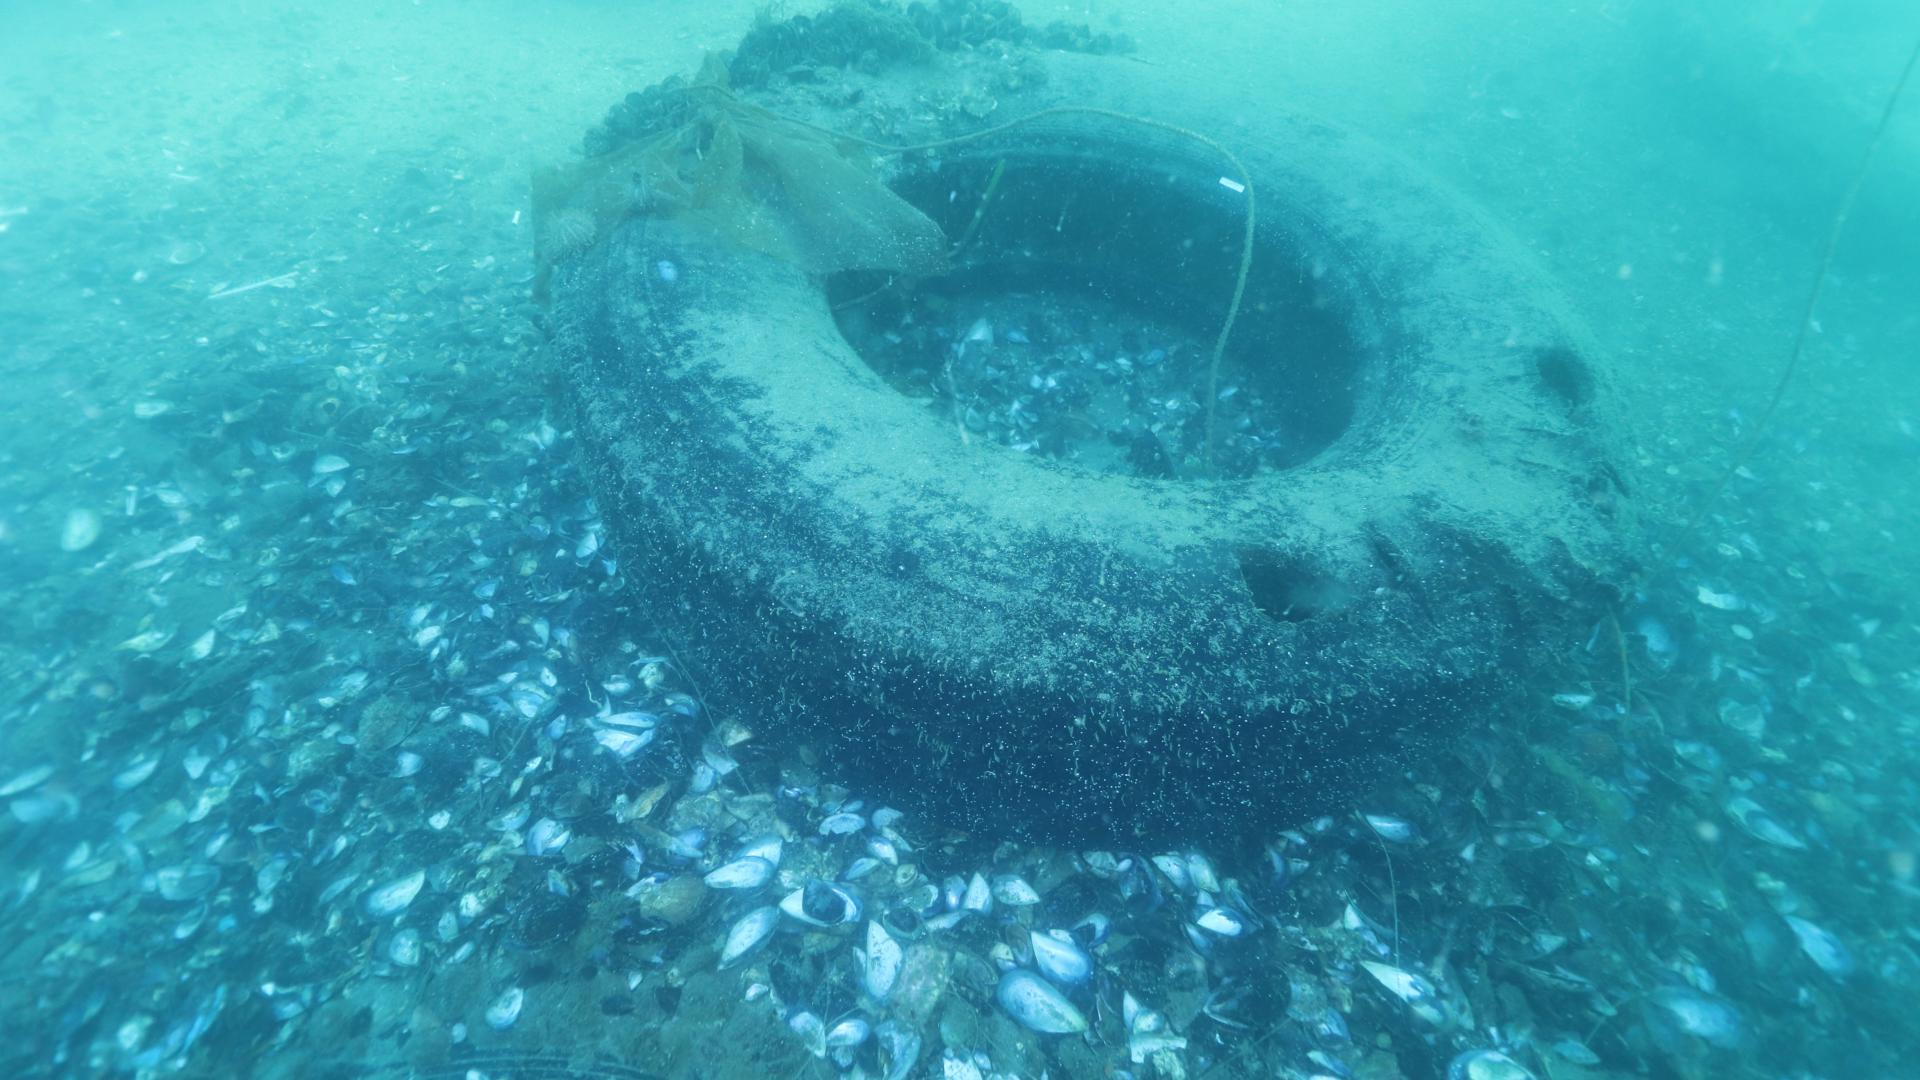tire: (535, 33, 1636, 841)
